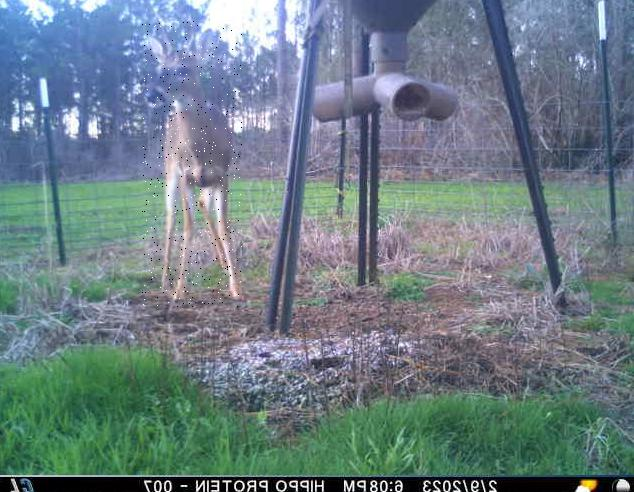Deer: (141, 22, 241, 308)
